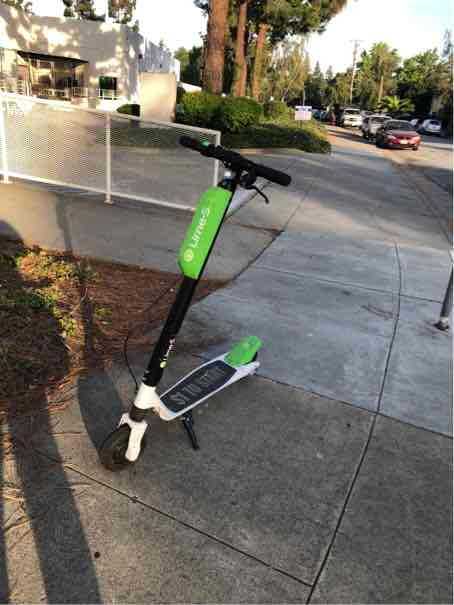scooter: (101, 124, 299, 481)
